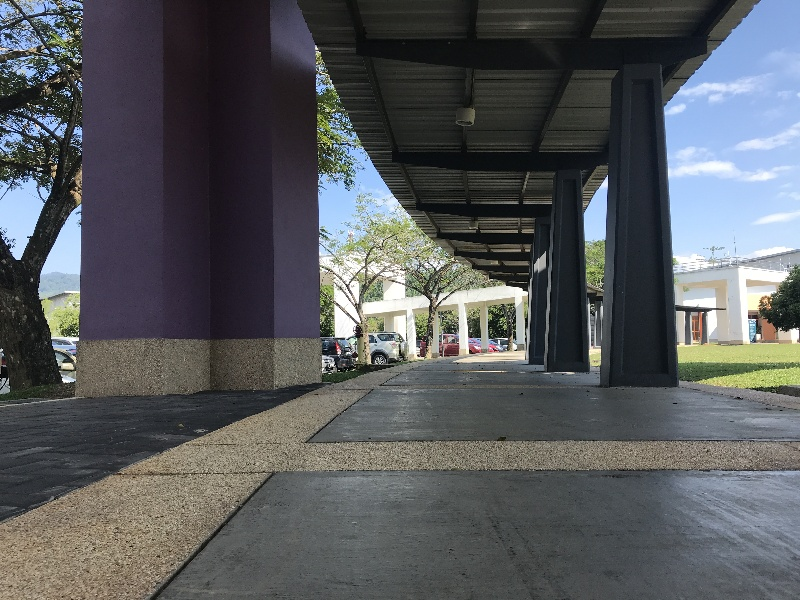Block D corridor: (4, 8, 785, 590)
pillar: (55, 13, 325, 392), (604, 62, 694, 406), (531, 175, 582, 371)
